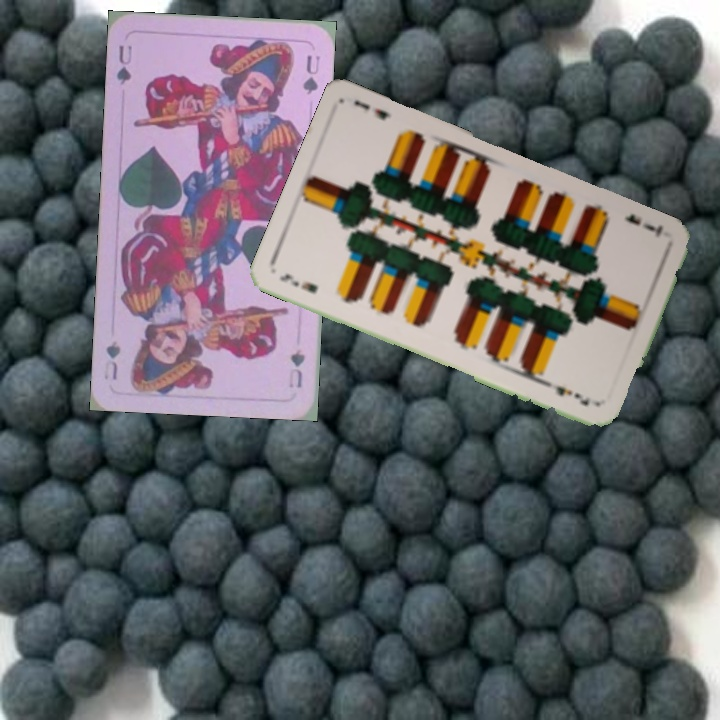E7: (620, 210, 666, 240), (275, 270, 321, 296)
GU: (284, 345, 308, 391), (112, 41, 135, 87)
